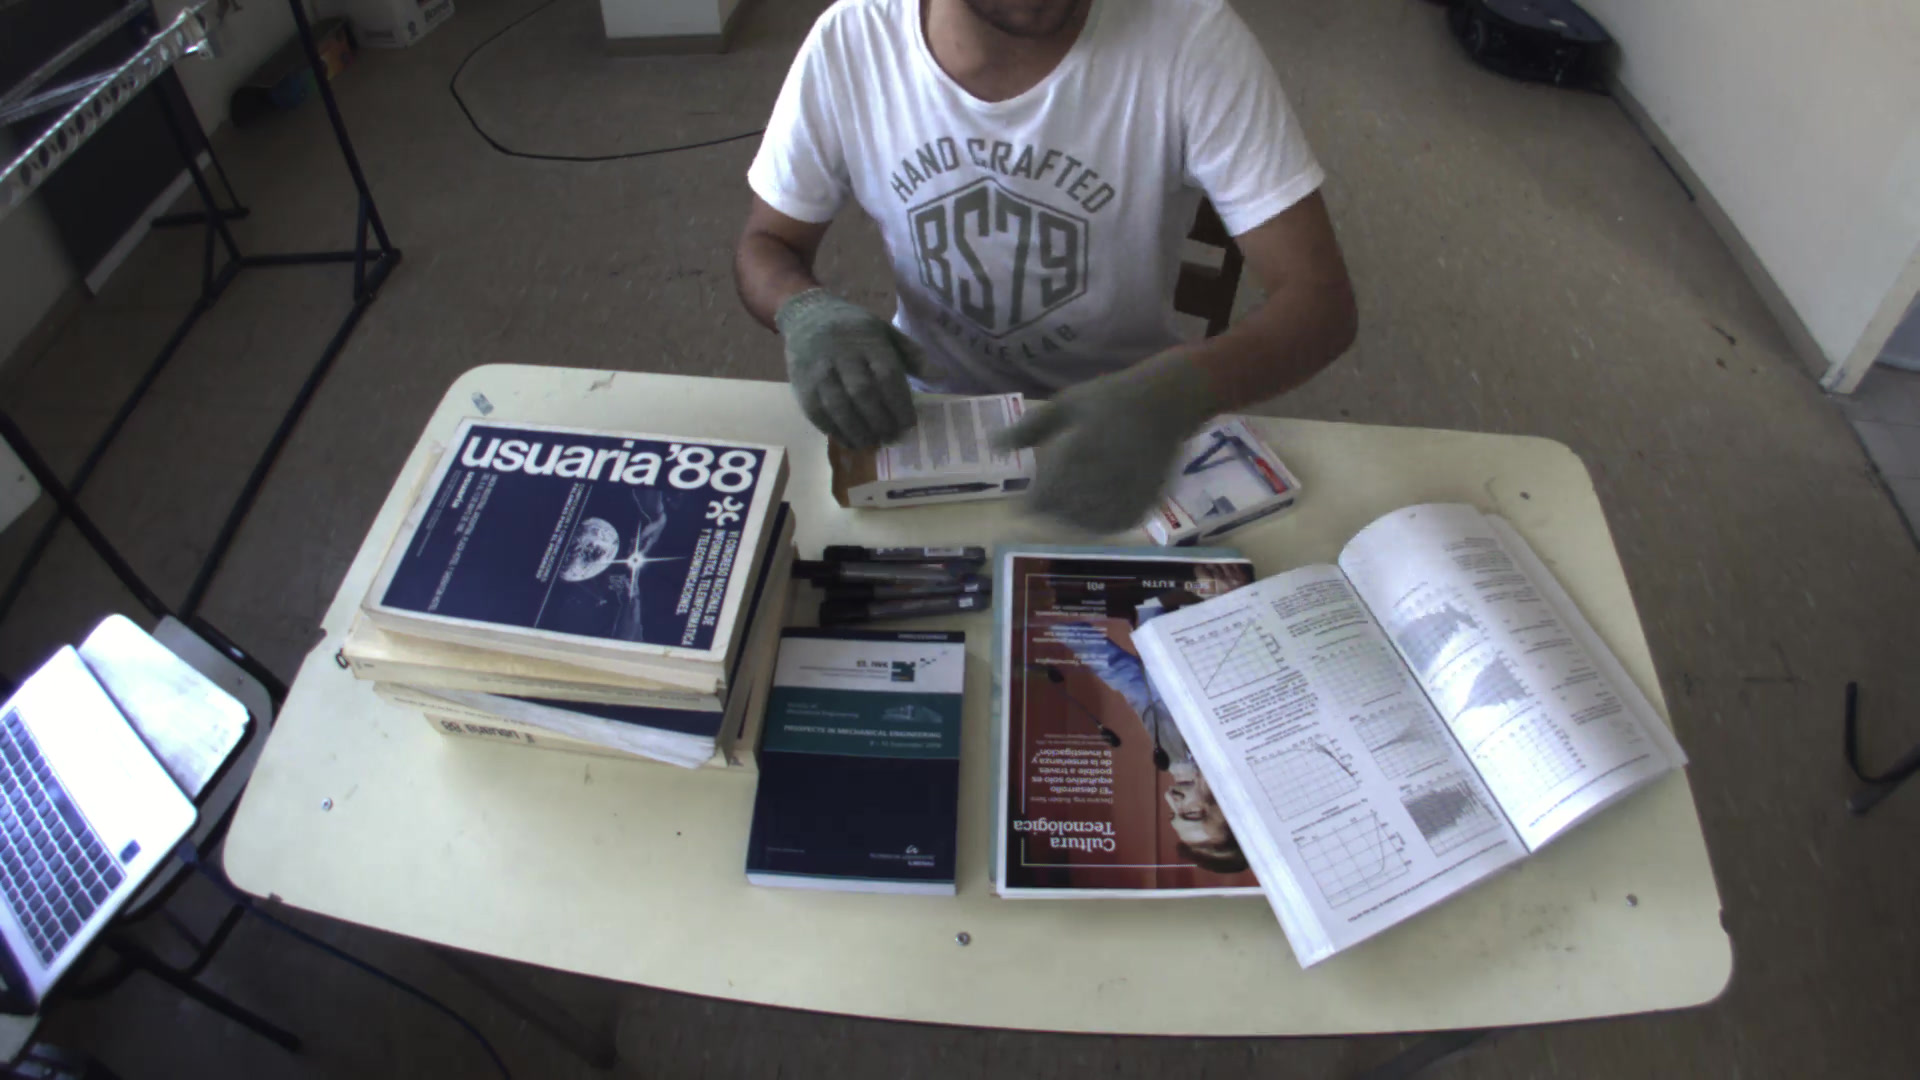hand: (982, 340, 1230, 535), (764, 282, 931, 452)
